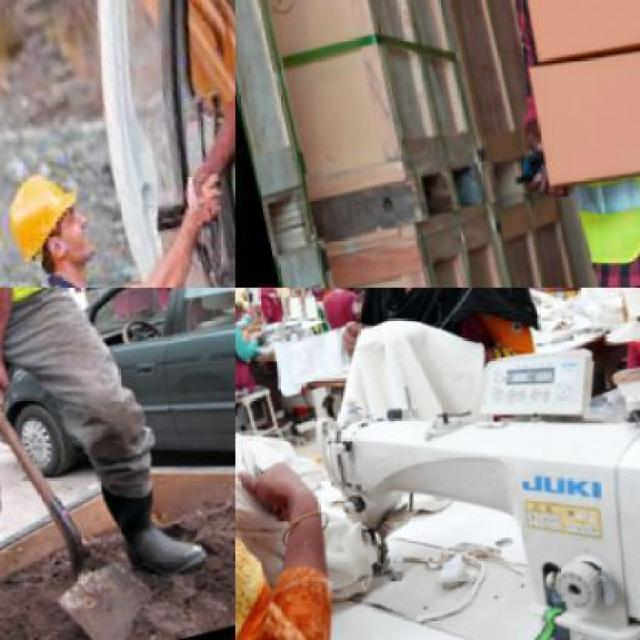Vest: (506, 0, 639, 282)
